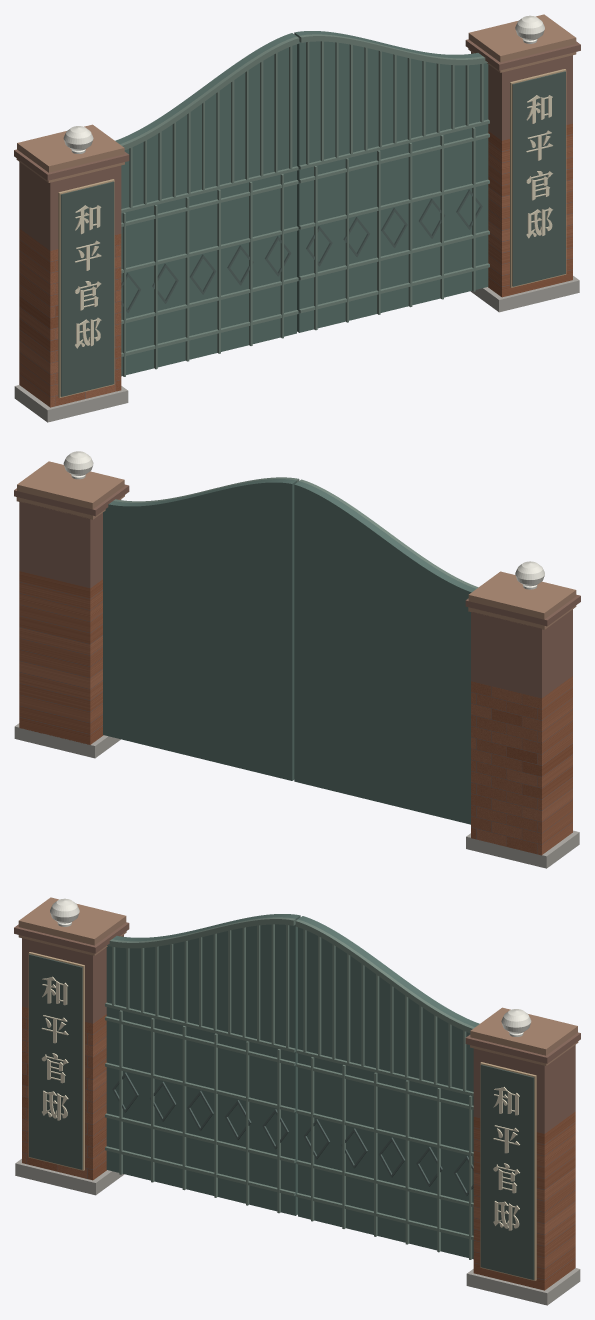
The model's file is dongping-16-twin-peace-inscriptions-near.glb.
3 views of the same model, one above another, from view 1: azimuth 30°, elevation 25°; view 2: azimuth 150°, elevation 25°; view 3: azimuth 330°, elevation 25° (orthographic).
Parts seen in each view (by area): view 1: 东平路16号和平官邸双题牌院门; view 2: 东平路16号和平官邸双题牌院门; view 3: 东平路16号和平官邸双题牌院门.
Part boxes in pixels (x1,y1,x2,y2): 东平路16号和平官邸双题牌院门: [14, 14, 580, 422]; 东平路16号和平官邸双题牌院门: [14, 451, 580, 868]; 东平路16号和平官邸双题牌院门: [14, 897, 580, 1305].
Size of the model in its own units: 4.61 by 2.56 by 0.504.
Materials: 10 (1 with a texture image).
